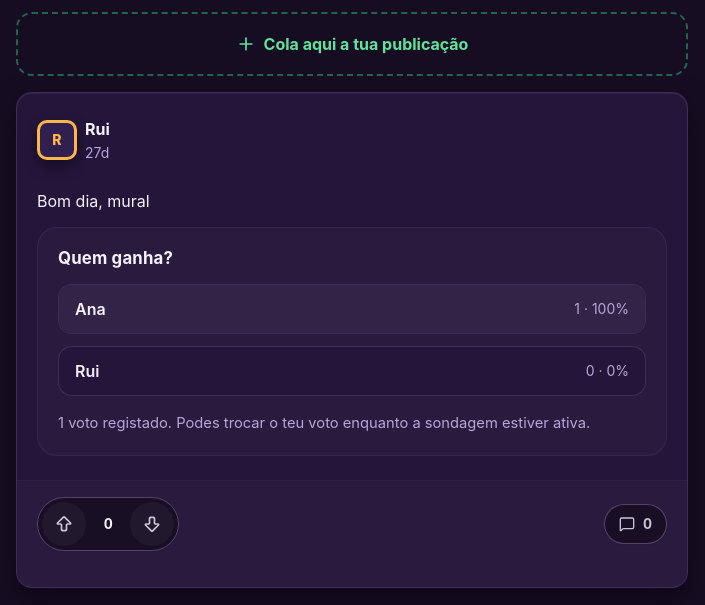
Test: HubFeedModule › votes in a poll and shows the new counts
What coordinates should you click on to do the following:
click the button "Rui 0 · 0%"
I would click on:
 (87, 371)
Its box is x1=58 y1=346 x2=646 y2=396.
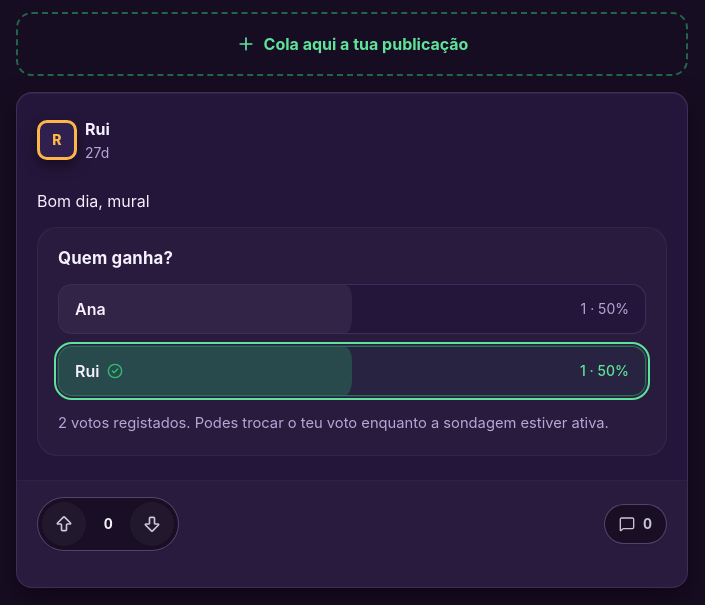
Check: the text "2 votos registados" is shown, box x1=58 y1=414 x2=186 y2=432
